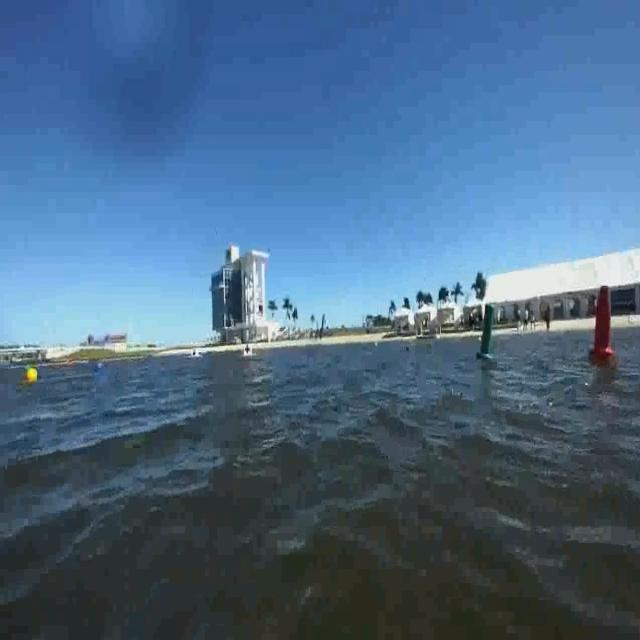blue-buoy: (95, 359, 103, 372)
green-column-buoy: (477, 304, 499, 364)
red-column-buoy: (588, 285, 616, 363)
yellow-buoy: (26, 366, 40, 387)
